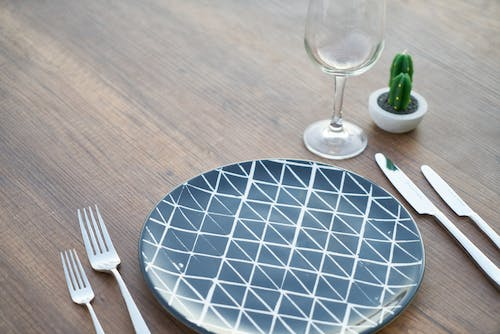knife: (373, 151, 500, 295), (418, 162, 500, 255)
